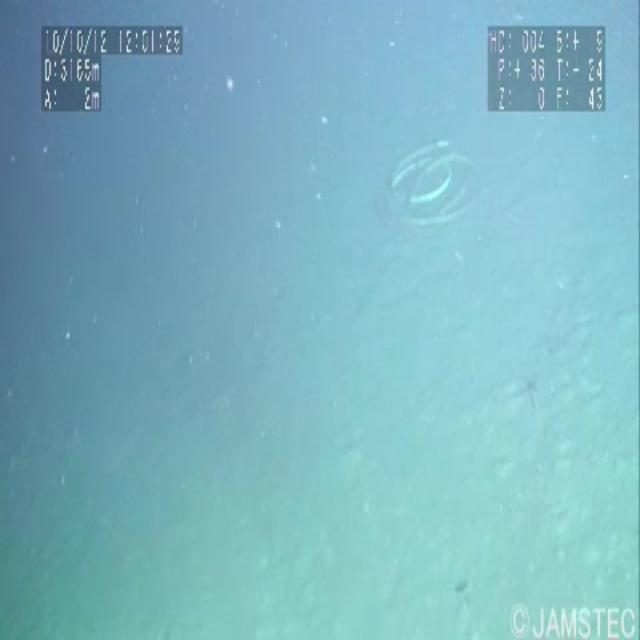Rope: (386, 135, 492, 260)
